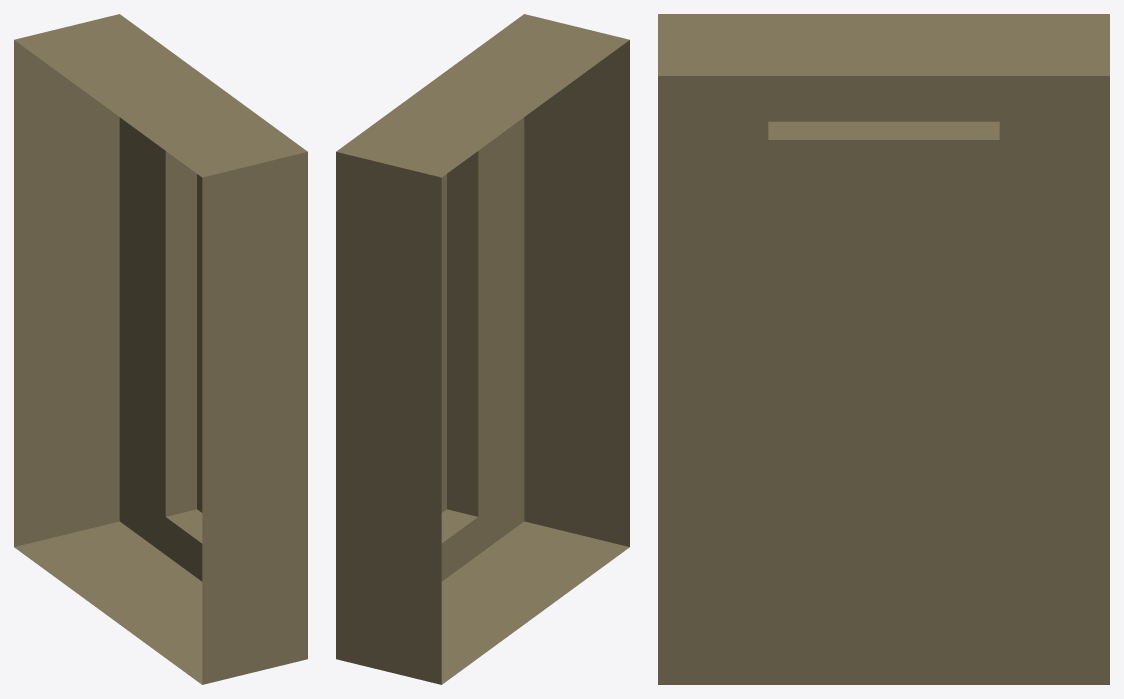
The model's file is interruptor.fbx.
3 renders of one model, left to right at view 1: azimuth 30°, elevation 25°; view 2: azimuth 150°, elevation 25°; view 3: azimuth 270°, elevation 25°, orthographic. The views are drawn at different scales.
Visible parts, largest first — view 1: interruptor; view 2: interruptor; view 3: interruptor.
Boxes of the visible parts, x1=… form: interruptor: x1=14, y1=14, x2=307, y2=684; interruptor: x1=336, y1=14, x2=629, y2=684; interruptor: x1=658, y1=14, x2=1109, y2=684.
Size of the model in its own units: 56.58 by 200 by 134.
